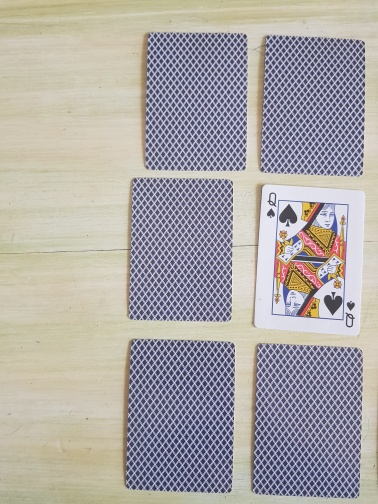queen: (252, 184, 367, 337)
